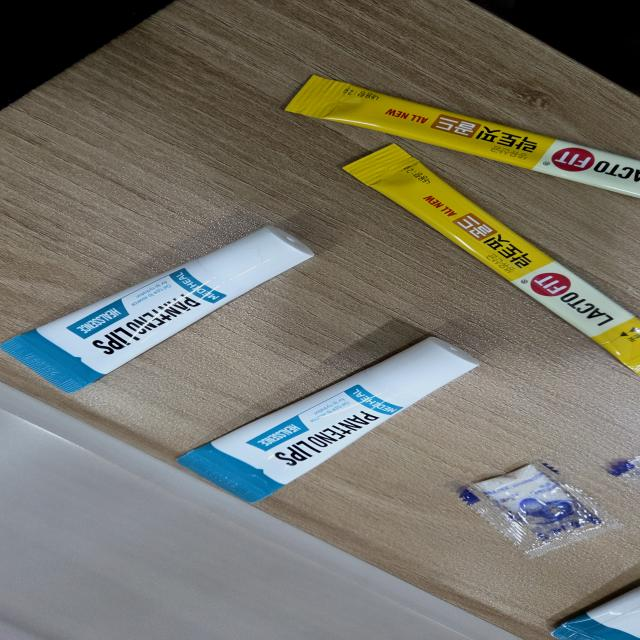lacto: (337, 140, 640, 378), (280, 70, 640, 202)
lib: (172, 334, 488, 504), (0, 224, 316, 394), (543, 570, 640, 640)
salt: (454, 455, 621, 559), (602, 443, 640, 498)
